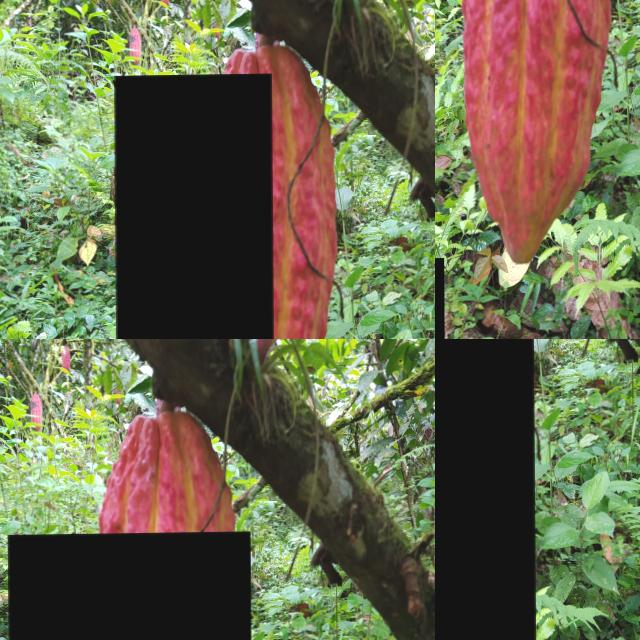Fitoftora: (536, 214, 571, 287)
Sana: (114, 74, 274, 339), (435, 339, 535, 640), (7, 532, 252, 640), (575, 242, 640, 339), (463, 236, 524, 339), (589, 200, 629, 275), (525, 140, 555, 195), (439, 238, 454, 285), (449, 240, 460, 272)
